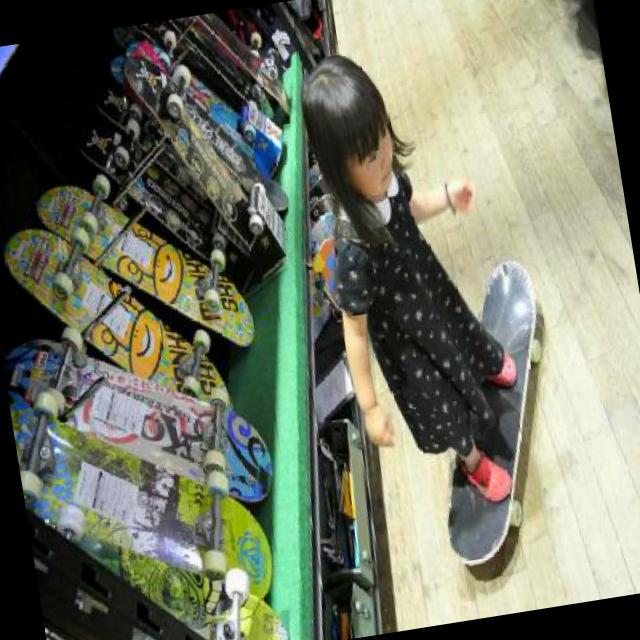Person: (293, 31, 539, 526)
